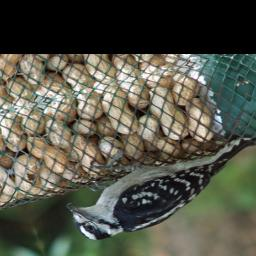Woodpecker: (48, 119, 256, 256)
